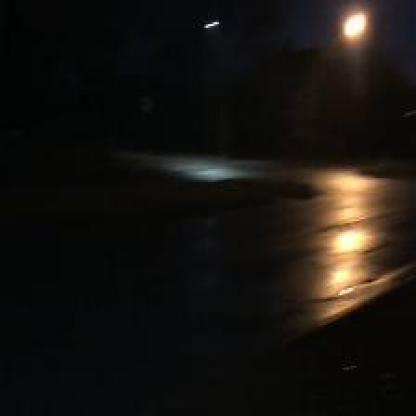other: (340, 166, 360, 297), (331, 7, 374, 48)
